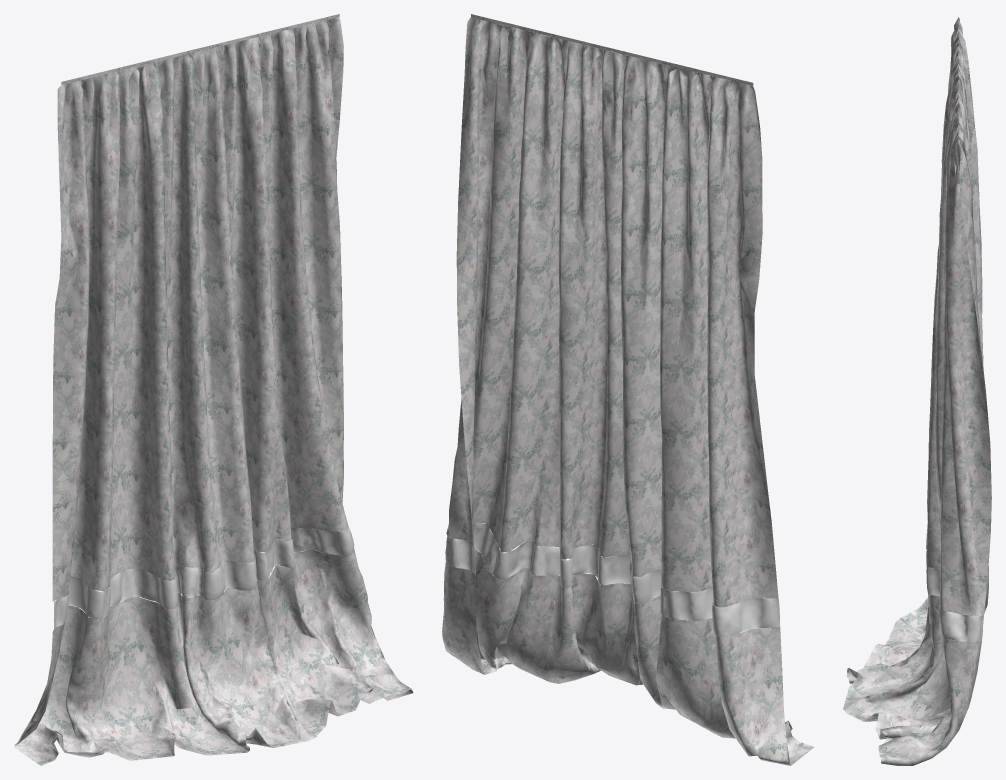
The model's file is curtain.glb.
3 renders of one model, left to right at view 1: azimuth 30°, elevation 25°; view 2: azimuth 150°, elevation 25°; view 3: azimuth 270°, elevation 25°, orthographic. The views are drawn at different scales.
Parts seen in each view (by area): view 1: Object_2, Object_5; view 2: Object_2, Object_5; view 3: Object_2, Object_5.
Part boxes in pixels (box(x1,y1,x2,y2)): Object_2: box(14, 14, 413, 765); Object_5: box(54, 526, 354, 630); Object_2: box(442, 14, 814, 765); Object_5: box(445, 523, 779, 636); Object_2: box(843, 17, 991, 765); Object_5: box(926, 549, 984, 643).
Bounding box in the file's own units: 128 × 228 × 50.22.
Materials: 2 (1 with a texture image).
